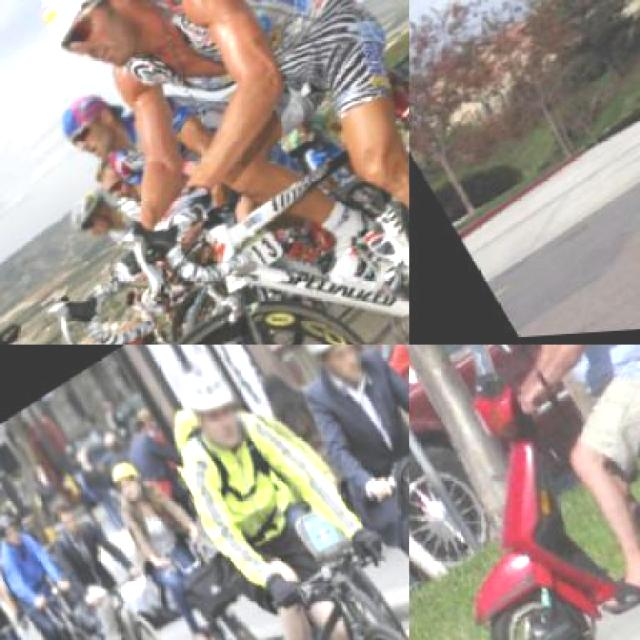With Helmet: (6, 0, 186, 106), (42, 77, 149, 188), (165, 348, 262, 468), (286, 345, 385, 409), (63, 182, 132, 256), (104, 453, 150, 510), (0, 506, 28, 552)
Without Helmet: (45, 492, 86, 542)
